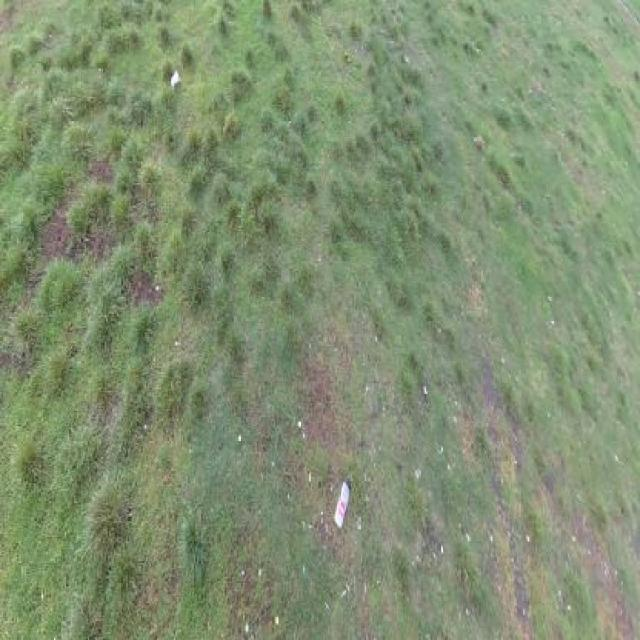Garbage: (333, 476, 351, 530), (171, 69, 179, 86)
